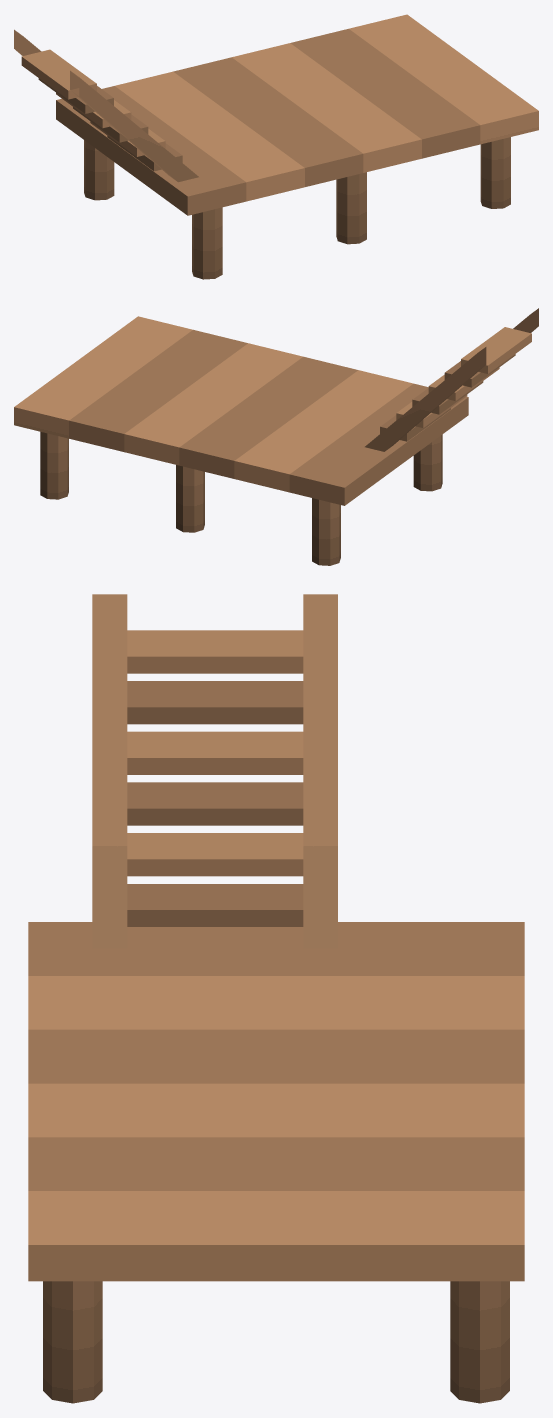
File: wooden_pier.glb
3 renders of one model, top to bottom at view 1: azimuth 30°, elevation 25°; view 2: azimuth 150°, elevation 25°; view 3: azimuth 270°, elevation 25°, orthographic. The views are drawn at different scales.
Parts seen in each view (by area): view 1: wooden_pier; view 2: wooden_pier; view 3: wooden_pier.
Boxes of the visible parts, <box> form: wooden_pier: <box>14,14,538,279</box>; wooden_pier: <box>14,308,538,565</box>; wooden_pier: <box>28,594,524,1403</box>.
Bounding box in the file's own units: 2.93 × 1.4 × 1.51.
Materials: 1 (1 with a texture image).
